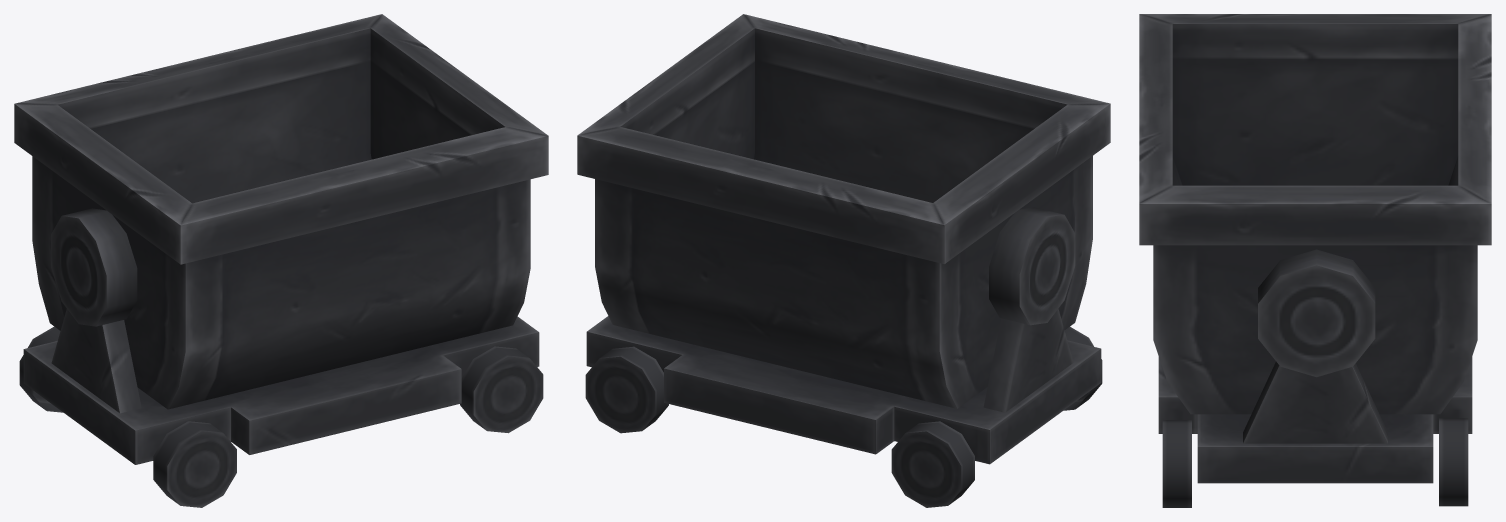
Rendered from Mine_Cart.fbx.
The picture shows the model from 3 angles, left to right: view 1: azimuth 30°, elevation 25°; view 2: azimuth 150°, elevation 25°; view 3: azimuth 270°, elevation 25°; orthographic projection. The views are drawn at different scales.
Visible parts, largest first — view 1: polySurface1154; view 2: polySurface1154; view 3: polySurface1154.
Boxes of the visible parts, x1,y1,x2,y2 form: polySurface1154: [14, 14, 548, 507]; polySurface1154: [577, 14, 1110, 507]; polySurface1154: [1139, 14, 1491, 507].
Bounding box in the file's own units: 63.73 × 45.27 × 45.18.
1 material, 1 textured.
